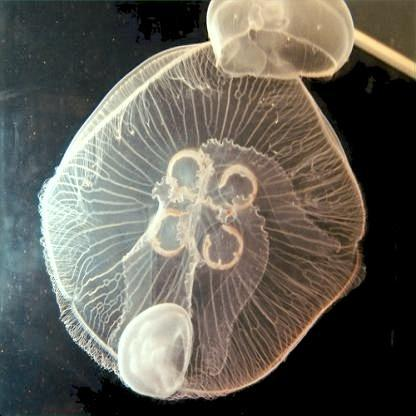Speckle: (35, 41, 364, 403), (206, 0, 358, 77), (118, 307, 192, 400)
